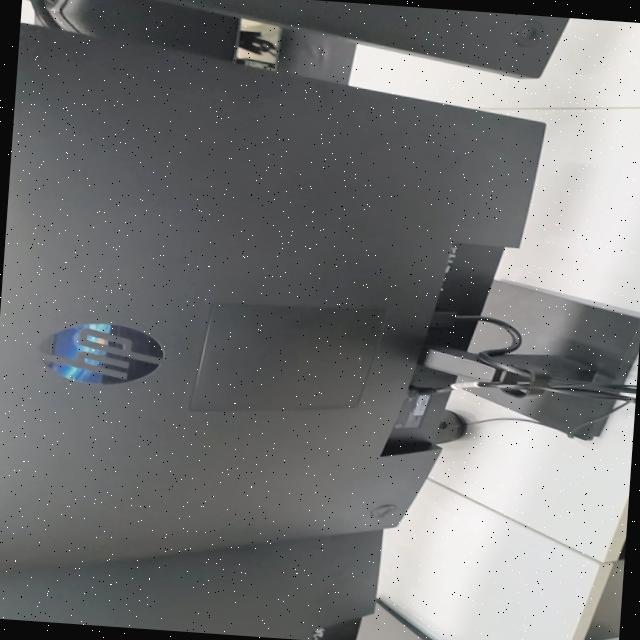Chair: (29, 0, 354, 83)
Monitor: (0, 22, 640, 569), (0, 530, 433, 640), (163, 0, 569, 77)
Mouse: (434, 409, 465, 444)
